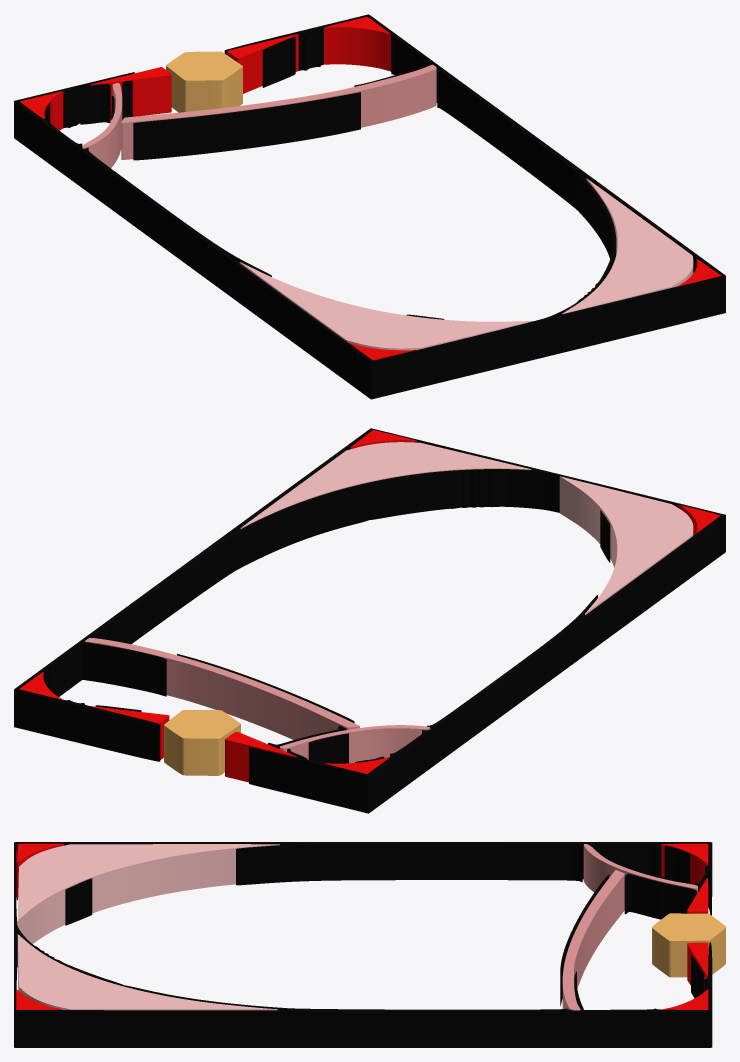
The picture shows the model from 3 angles, top to bottom: view 1: azimuth 30°, elevation 25°; view 2: azimuth 150°, elevation 25°; view 3: azimuth 270°, elevation 25°; orthographic projection. The views are drawn at different scales.
Visible parts, largest first — view 1: imagetostl_mesh4, imagetostl_mesh6, imagetostl_mesh1, imagetostl_mesh3, imagetostl_mesh5, imagetostl_mesh32, imagetostl_mesh26, imagetostl_mesh36, imagetostl_mesh33, imagetostl_mesh37, imagetostl_mesh20, imagetostl_mesh10 (+3 smaller); view 2: imagetostl_mesh4, imagetostl_mesh1, imagetostl_mesh3, imagetostl_mesh32, imagetostl_mesh5, imagetostl_mesh36, imagetostl_mesh34, imagetostl_mesh0, imagetostl_mesh33, imagetostl_mesh37, imagetostl_mesh12, imagetostl_mesh20; view 3: imagetostl_mesh4, imagetostl_mesh0, imagetostl_mesh1, imagetostl_mesh3, imagetostl_mesh5, imagetostl_mesh8, imagetostl_mesh32, imagetostl_mesh36, imagetostl_mesh33, imagetostl_mesh37, imagetostl_mesh14, imagetostl_mesh34 (+11 smaller).
Part boxes in pixels (x1,y1,x2,y2): imagetostl_mesh4: (14, 16, 725, 399); imagetostl_mesh6: (133, 92, 360, 160); imagetostl_mesh1: (240, 262, 531, 348); imagetostl_mesh3: (562, 179, 693, 313); imagetostl_mesh5: (14, 14, 725, 362); imagetostl_mesh32: (121, 68, 436, 159); imagetostl_mesh26: (324, 27, 390, 71); imagetostl_mesh36: (166, 66, 242, 112); imagetostl_mesh33: (121, 64, 436, 122); imagetostl_mesh37: (166, 51, 242, 80); imagetostl_mesh20: (90, 75, 171, 119); imagetostl_mesh10: (262, 37, 295, 87); imagetostl_mesh4: (14, 431, 725, 813); imagetostl_mesh1: (560, 476, 693, 613); imagetostl_mesh3: (241, 442, 530, 527); imagetostl_mesh32: (85, 641, 359, 739); imagetostl_mesh5: (14, 428, 725, 776); imagetostl_mesh36: (164, 724, 240, 775); imagetostl_mesh34: (279, 728, 430, 763); imagetostl_mesh0: (559, 476, 693, 615); imagetostl_mesh33: (85, 638, 359, 727); imagetostl_mesh37: (164, 710, 240, 738); imagetostl_mesh12: (308, 733, 348, 763); imagetostl_mesh20: (225, 739, 296, 782); imagetostl_mesh4: (14, 843, 712, 1047); imagetostl_mesh0: (17, 844, 279, 943); imagetostl_mesh1: (17, 844, 278, 919); imagetostl_mesh3: (17, 934, 276, 1009); imagetostl_mesh5: (14, 842, 712, 1011); imagetostl_mesh8: (624, 875, 697, 919); imagetostl_mesh32: (562, 874, 624, 1010); imagetostl_mesh36: (652, 928, 725, 977); imagetostl_mesh33: (562, 870, 624, 1009); imagetostl_mesh37: (652, 913, 725, 940); imagetostl_mesh14: (65, 878, 92, 925); imagetostl_mesh34: (583, 845, 697, 892).
Bounding box in the file's own units: 10000 × 1000 × 17765.
